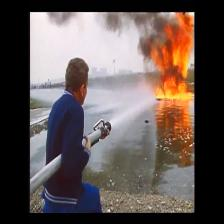fire: (157, 32, 187, 98)
